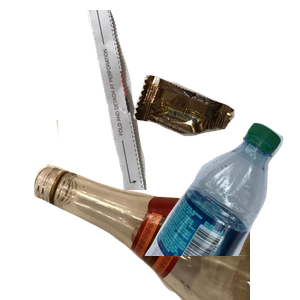glass: (31, 120, 271, 300)
paper: (85, 10, 224, 190)
plastic: (142, 120, 300, 300)
trash: (131, 73, 300, 202)
